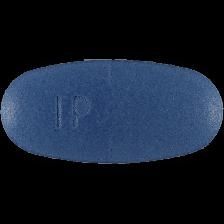53808-0872: (0, 0, 224, 224)
